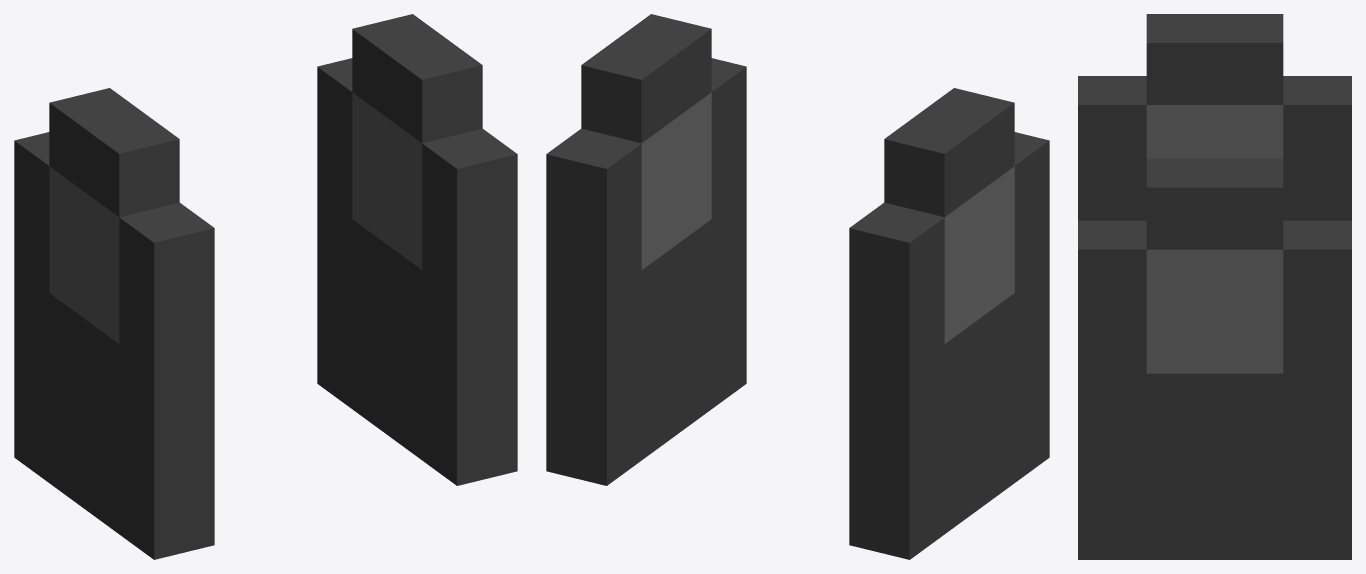
Rendered from BasicTowerBase.obj.
3 renders of one model, left to right at view 1: azimuth 30°, elevation 25°; view 2: azimuth 150°, elevation 25°; view 3: azimuth 270°, elevation 25°, orthographic. The views are drawn at different scales.
Size of the model in its own units: 0.6 by 0.6 by 0.4.
Materials: 1 (1 with a texture image).
